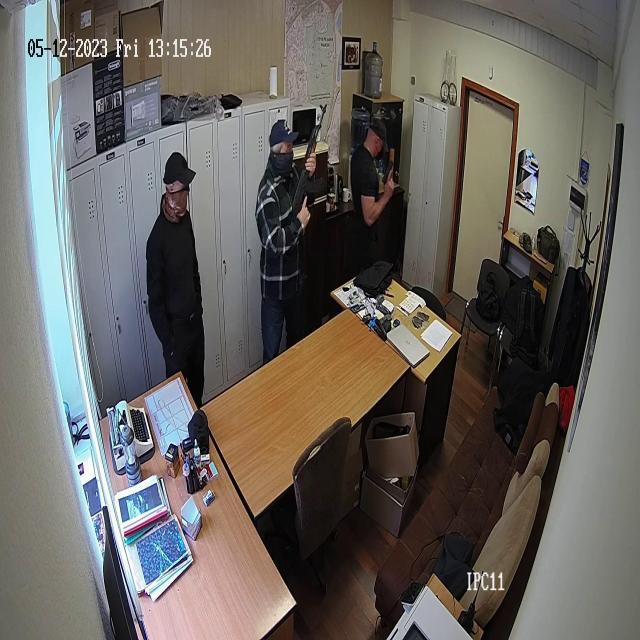pistol: (288, 100, 327, 245), (384, 155, 396, 202)
